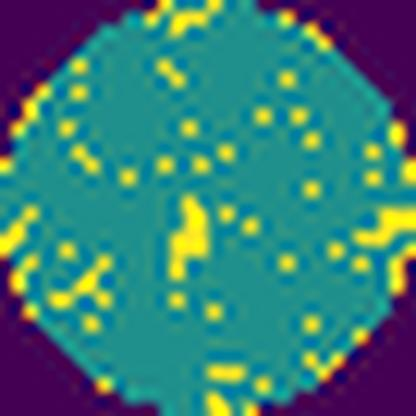Center: (166, 189, 215, 287)
